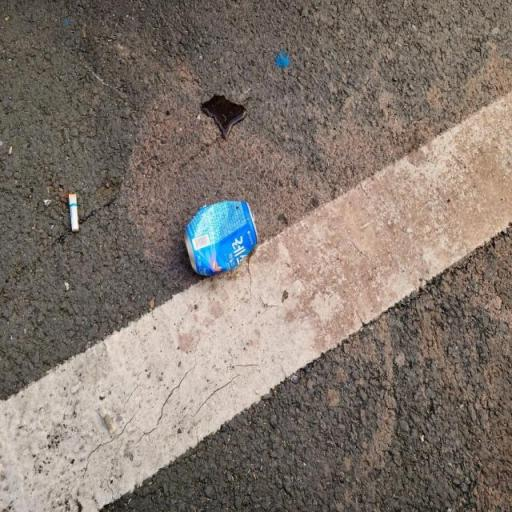metal: (163, 192, 285, 288)
